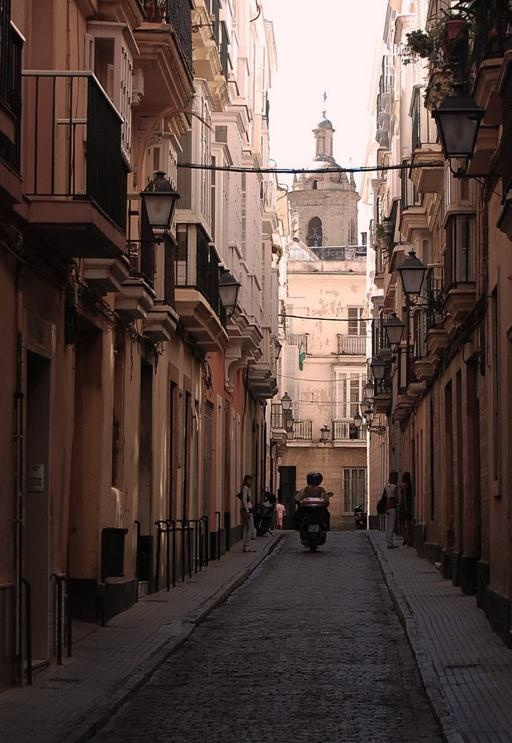non-vehicle: (292, 488, 334, 552), (252, 483, 281, 536), (352, 501, 367, 529)
